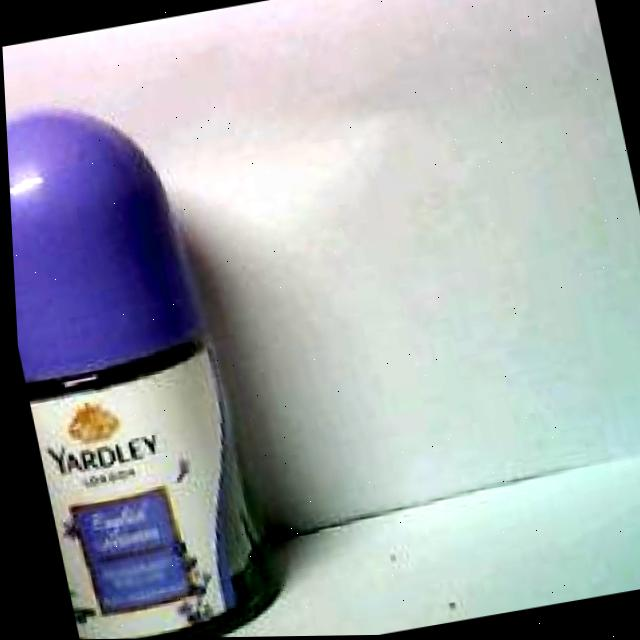yardley_rollon: (5, 109, 280, 639)
